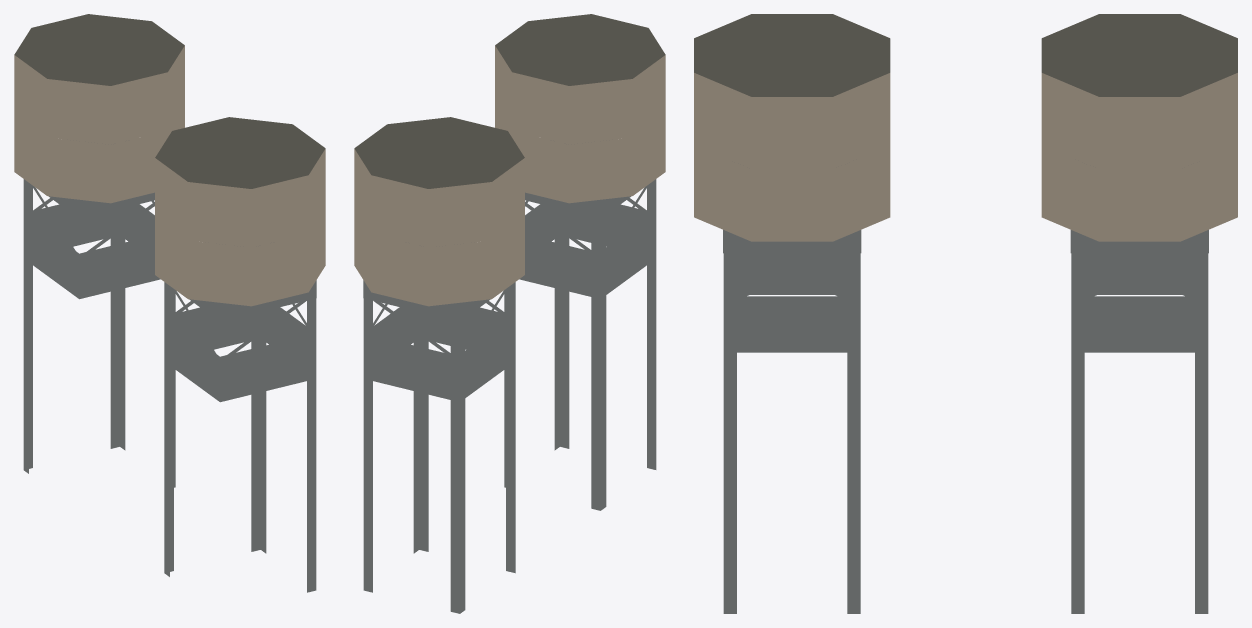
File: Chunk15.obj
3 renders of one model, left to right at view 1: azimuth 30°, elevation 25°; view 2: azimuth 150°, elevation 25°; view 3: azimuth 270°, elevation 25°, orthographic. The views are drawn at different scales.
Size of the model in its own units: 92.4 by 275 by 256.
